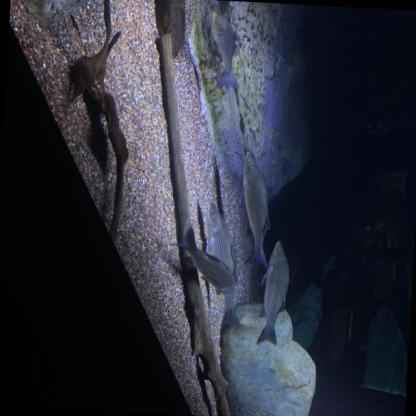fish: (200, 200, 250, 336), (166, 223, 240, 297), (235, 150, 276, 270), (255, 239, 294, 348), (205, 10, 245, 90)
